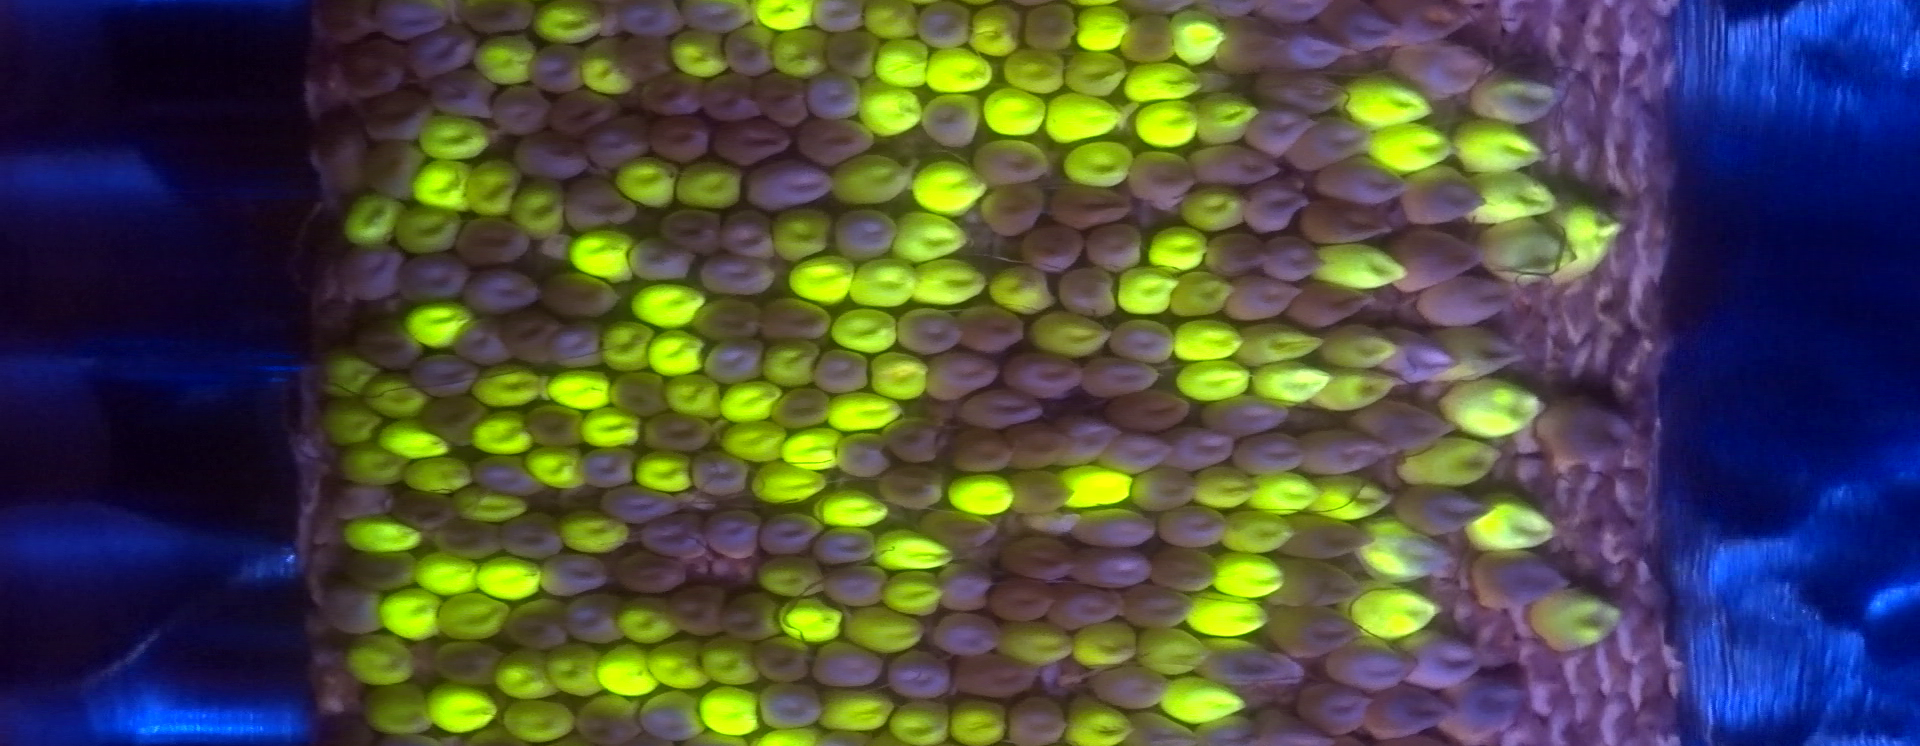fluorescent: (1543, 197, 1613, 281), (1538, 586, 1618, 658), (1357, 516, 1444, 581), (1450, 379, 1545, 437), (1471, 70, 1559, 130), (1468, 494, 1554, 552), (1309, 238, 1403, 285), (1456, 118, 1540, 170), (1335, 78, 1433, 122), (1400, 441, 1498, 485), (1466, 171, 1551, 222), (1351, 584, 1430, 635), (1442, 326, 1520, 376), (364, 681, 433, 736), (1364, 122, 1444, 170), (1313, 474, 1387, 524), (786, 249, 853, 303), (820, 390, 901, 432), (1060, 140, 1131, 187), (913, 163, 984, 211), (981, 86, 1044, 137), (1187, 592, 1262, 635), (1254, 356, 1325, 402), (1051, 94, 1114, 145), (836, 149, 894, 205), (861, 82, 920, 136), (418, 118, 491, 160), (634, 283, 702, 330), (360, 371, 429, 416), (891, 216, 964, 258), (1133, 99, 1194, 149), (644, 330, 707, 379), (912, 258, 980, 304), (1311, 375, 1397, 410), (753, 461, 824, 503), (474, 36, 538, 83), (1251, 468, 1316, 514), (1171, 361, 1249, 399), (924, 48, 989, 93), (1057, 468, 1131, 507), (509, 178, 562, 233), (448, 486, 531, 521), (474, 365, 546, 404), (580, 36, 631, 91), (669, 29, 731, 73), (1213, 555, 1280, 597), (342, 197, 400, 244), (831, 309, 895, 352), (877, 530, 950, 567), (1164, 684, 1238, 720), (1127, 61, 1195, 100), (564, 506, 622, 552), (595, 644, 653, 691), (381, 590, 441, 635), (404, 306, 471, 345), (340, 443, 408, 483), (1065, 701, 1127, 744), (440, 600, 504, 641), (617, 157, 673, 203), (816, 492, 887, 529), (852, 262, 910, 307), (944, 475, 1013, 513), (411, 160, 470, 205), (506, 697, 572, 736), (527, 447, 587, 490), (700, 686, 756, 733), (572, 232, 628, 277), (471, 157, 516, 214), (681, 163, 738, 207), (1174, 271, 1232, 315), (400, 457, 471, 492), (1120, 265, 1172, 314), (816, 696, 891, 729), (1010, 624, 1070, 665), (662, 374, 718, 419), (547, 371, 611, 410), (432, 686, 489, 730), (381, 420, 453, 454), (535, 4, 598, 43), (1183, 187, 1247, 225), (1152, 225, 1209, 268), (602, 323, 651, 372), (1169, 10, 1221, 56), (400, 206, 453, 251), (500, 650, 552, 696), (780, 601, 839, 642), (469, 414, 531, 452), (347, 638, 407, 677), (580, 409, 637, 451), (891, 699, 948, 741), (413, 552, 476, 589), (1147, 628, 1195, 677), (481, 559, 539, 599), (996, 267, 1048, 311), (1033, 316, 1101, 350), (322, 352, 376, 394), (1227, 513, 1286, 552), (1079, 5, 1128, 51), (765, 341, 814, 387), (880, 39, 926, 89), (871, 355, 922, 399), (1244, 327, 1315, 359), (649, 649, 707, 688), (1177, 320, 1238, 356), (631, 454, 692, 491), (620, 600, 673, 642), (1078, 625, 1131, 666), (888, 573, 940, 615), (771, 212, 829, 250), (722, 379, 778, 418), (1004, 49, 1060, 87), (552, 648, 599, 693), (344, 521, 415, 550), (725, 420, 784, 454), (782, 432, 838, 468), (954, 706, 1005, 742), (1321, 328, 1385, 358), (1205, 93, 1247, 136), (324, 401, 370, 440), (1199, 467, 1245, 505), (975, 9, 1013, 54), (752, 722, 820, 746), (775, 29, 816, 69), (867, 2, 920, 32), (754, 2, 811, 29), (760, 561, 804, 594), (705, 644, 744, 681)
nonfluorescent: (1540, 394, 1631, 461), (1389, 229, 1484, 287), (1469, 551, 1566, 606), (1400, 168, 1480, 229), (1400, 39, 1484, 97), (1453, 677, 1528, 740), (1396, 485, 1484, 537), (1260, 608, 1359, 653), (1202, 641, 1304, 685), (1310, 154, 1408, 200), (1424, 274, 1512, 325), (1303, 201, 1404, 244), (1404, 631, 1483, 685), (1364, 684, 1447, 734), (742, 163, 831, 209), (1297, 278, 1374, 330), (787, 116, 877, 160), (1282, 560, 1360, 610), (458, 213, 534, 265), (1277, 514, 1365, 559), (1258, 73, 1348, 116), (811, 639, 891, 687), (313, 579, 383, 635), (1047, 184, 1139, 225), (1300, 430, 1389, 473), (333, 244, 400, 299), (502, 592, 566, 649), (1104, 390, 1195, 430), (1329, 639, 1409, 685), (564, 178, 636, 229), (956, 303, 1029, 353), (538, 278, 624, 320), (1362, 405, 1444, 450), (924, 352, 998, 401), (972, 138, 1053, 183), (1189, 148, 1280, 187), (1294, 121, 1370, 168), (1198, 394, 1291, 432), (983, 180, 1046, 236), (315, 118, 358, 200), (1393, 2, 1480, 43), (1129, 148, 1194, 202), (759, 299, 838, 343), (1000, 352, 1079, 396), (891, 306, 960, 356), (516, 132, 591, 178), (1103, 317, 1177, 364), (397, 257, 468, 305), (697, 254, 775, 296), (997, 530, 1075, 573), (1118, 586, 1196, 628), (989, 575, 1056, 625), (956, 655, 1036, 697), (1071, 507, 1156, 546), (462, 269, 539, 312), (364, 94, 431, 143), (547, 94, 622, 138), (528, 43, 590, 96), (1086, 670, 1167, 710), (643, 412, 719, 454), (304, 1, 375, 47), (1269, 29, 1343, 72), (493, 514, 566, 559), (362, 142, 419, 198), (923, 96, 982, 149), (1393, 328, 1452, 382), (299, 55, 351, 115), (888, 650, 950, 701), (644, 695, 711, 741), (612, 554, 687, 595), (691, 295, 759, 341), (431, 638, 500, 684), (331, 549, 415, 586), (1251, 102, 1309, 156), (1008, 416, 1068, 468), (1331, 5, 1397, 51), (404, 33, 480, 73), (959, 387, 1040, 425), (1305, 685, 1368, 734), (1057, 269, 1124, 315), (500, 310, 552, 367), (551, 320, 609, 372), (598, 481, 680, 518), (839, 211, 895, 263), (637, 514, 700, 561), (624, 243, 696, 284), (922, 510, 993, 551), (667, 587, 726, 637), (1101, 430, 1171, 472), (916, 2, 973, 53), (1019, 2, 1076, 53), (376, 1, 447, 42), (539, 554, 610, 594), (648, 114, 708, 162), (1229, 274, 1294, 318), (364, 323, 425, 370), (350, 42, 404, 94), (1079, 360, 1153, 398), (1078, 549, 1152, 587), (715, 125, 787, 164), (324, 481, 397, 521), (1247, 183, 1304, 232), (756, 682, 823, 724), (1160, 506, 1224, 549), (566, 592, 618, 644), (1008, 697, 1064, 746), (660, 209, 722, 254), (718, 589, 775, 637), (702, 512, 760, 559), (1056, 582, 1119, 625), (588, 118, 648, 163), (1005, 472, 1065, 517), (429, 394, 482, 445), (756, 635, 811, 684), (453, 315, 509, 363), (530, 402, 587, 450), (1204, 230, 1266, 273), (429, 75, 495, 115), (1236, 431, 1302, 472), (887, 464, 945, 510), (756, 77, 809, 126), (1120, 18, 1176, 66), (489, 87, 545, 134), (1026, 225, 1082, 272), (1086, 225, 1144, 271), (689, 450, 747, 495), (411, 355, 478, 394), (576, 697, 634, 741), (816, 348, 869, 396), (579, 443, 637, 488), (1222, 20, 1272, 70), (459, 1, 528, 38), (1171, 430, 1237, 468), (936, 612, 996, 654), (645, 72, 700, 118), (824, 570, 888, 609), (760, 511, 817, 555), (617, 2, 684, 39), (1264, 240, 1325, 281), (705, 338, 767, 379), (827, 31, 877, 80), (618, 38, 673, 82), (607, 370, 664, 413), (705, 72, 753, 122), (956, 429, 1008, 475), (882, 420, 951, 454), (1130, 468, 1195, 505), (681, 1, 749, 36), (436, 519, 500, 556), (722, 29, 769, 80), (813, 530, 876, 567), (473, 461, 541, 494), (1152, 551, 1216, 587), (940, 561, 986, 609), (722, 212, 773, 255), (776, 386, 828, 428), (396, 491, 456, 527), (807, 72, 853, 116), (834, 437, 888, 475), (1068, 416, 1119, 456), (812, 1, 867, 33), (320, 715, 371, 746)
